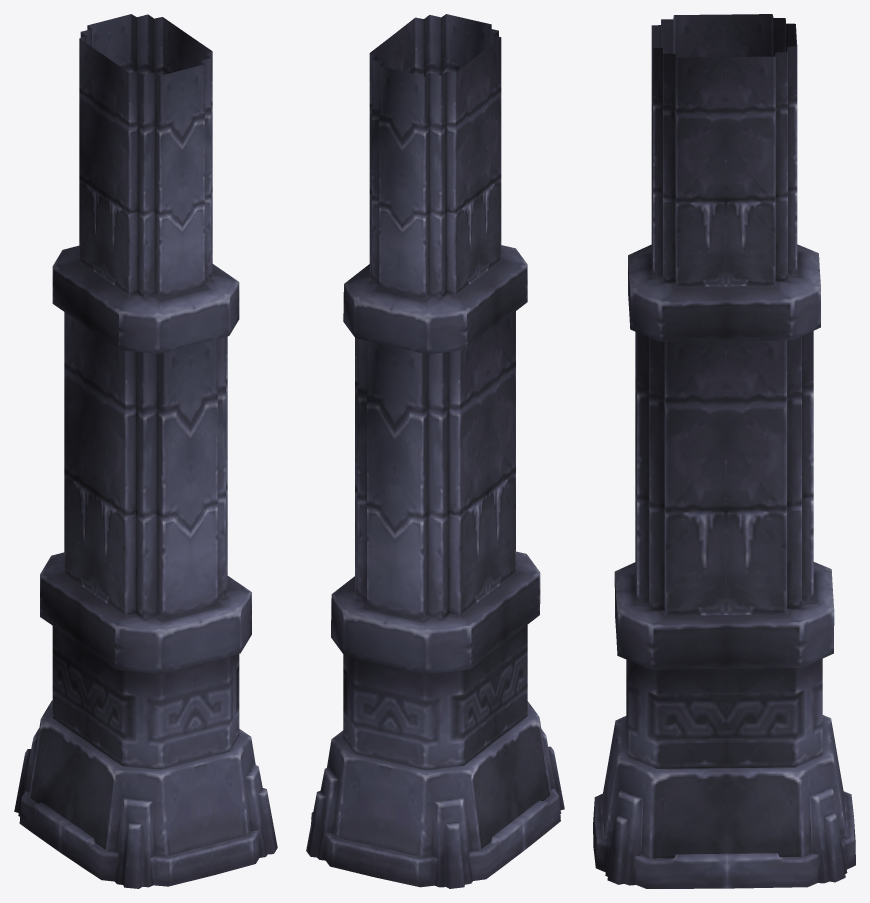
Rendered from Bedaying_zhuzi01.FBX.
3 renders of one model, left to right at view 1: azimuth 30°, elevation 25°; view 2: azimuth 150°, elevation 25°; view 3: azimuth 270°, elevation 25°, orthographic. The views are drawn at different scales.
Parts seen in each view (by area): view 1: Bedaying_zhuzi01; view 2: Bedaying_zhuzi01; view 3: Bedaying_zhuzi01.
Boxes of the visible parts, left/top/right/bottom form: Bedaying_zhuzi01: left=14, top=14, right=277, bottom=888; Bedaying_zhuzi01: left=306, top=14, right=564, bottom=888; Bedaying_zhuzi01: left=593, top=14, right=855, bottom=888.
Size of the model in its own units: 91.49 by 114 by 388.
